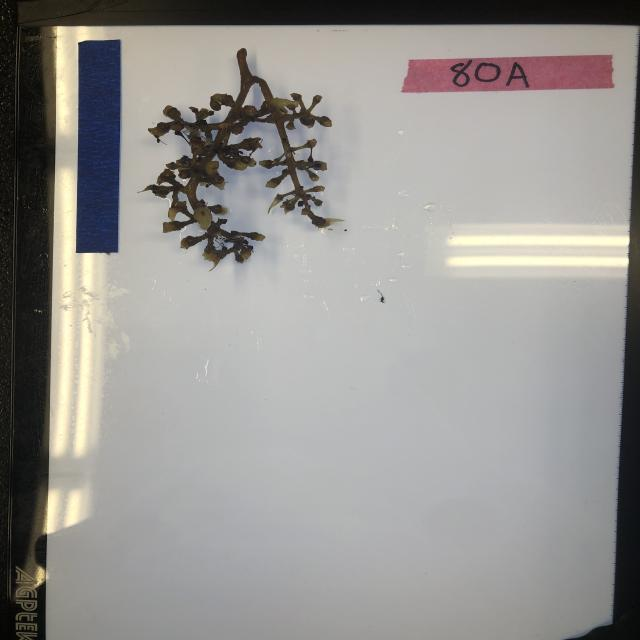index: (403, 54, 616, 96)
measure_label: (76, 38, 124, 253)
rachis_cluster: (148, 46, 347, 268)
